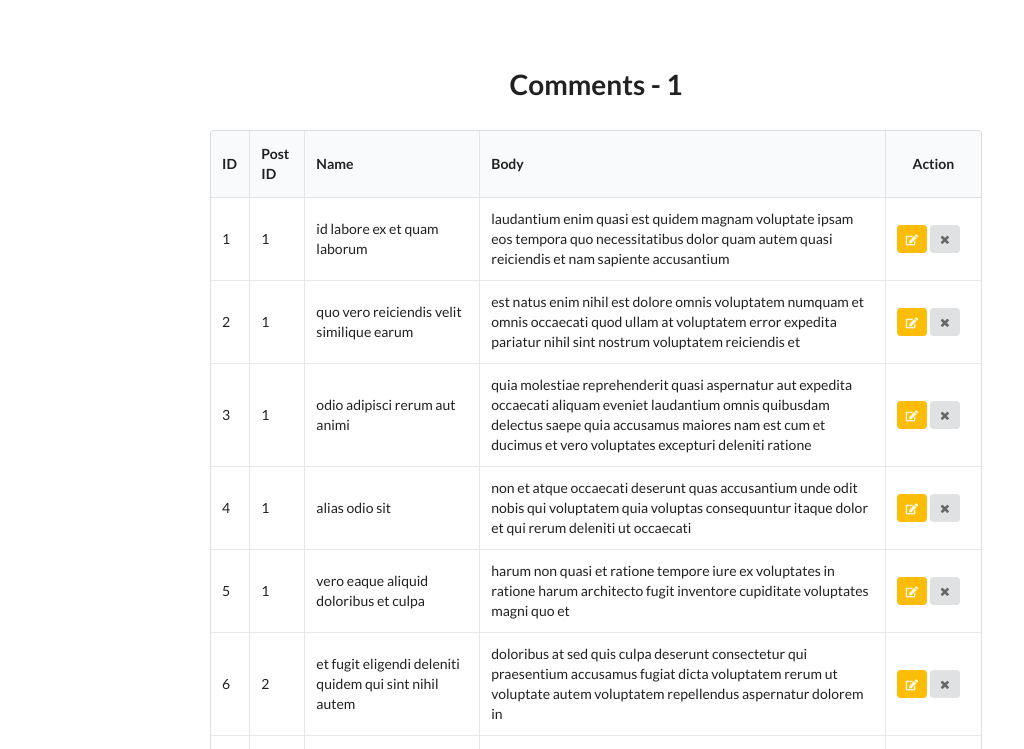
Comments Page Test › modal yes click test
Click the button with test id "delete-button-1": [945, 239] box [930, 225, 960, 253]
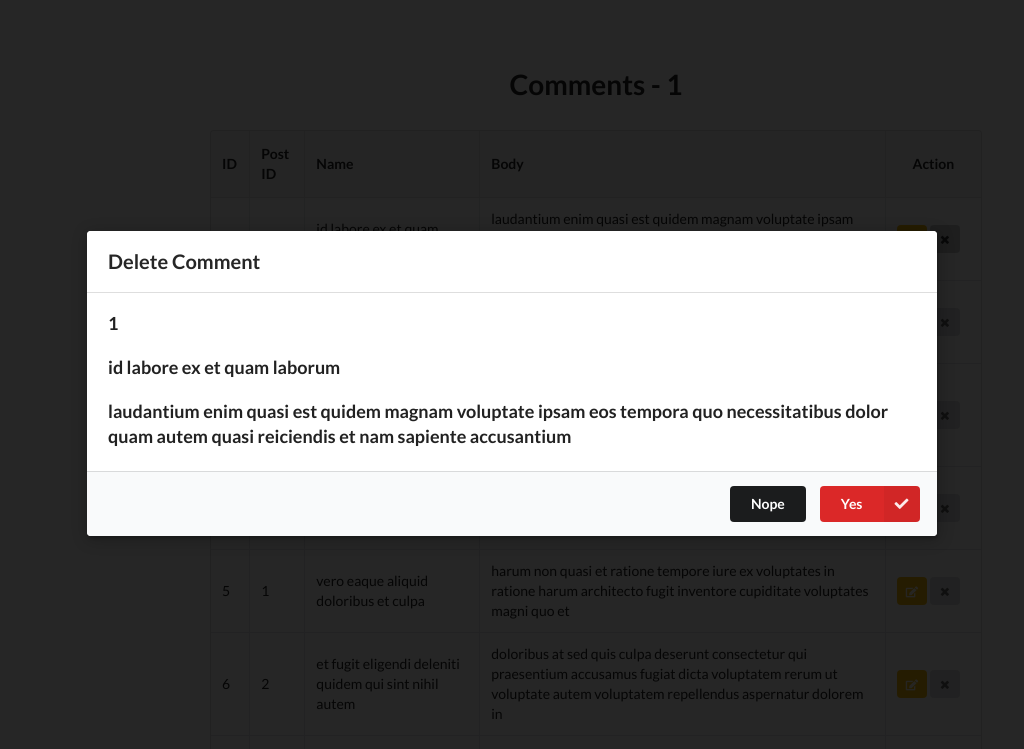
Click the button with test id "yes-button": [870, 504] box [820, 486, 920, 522]
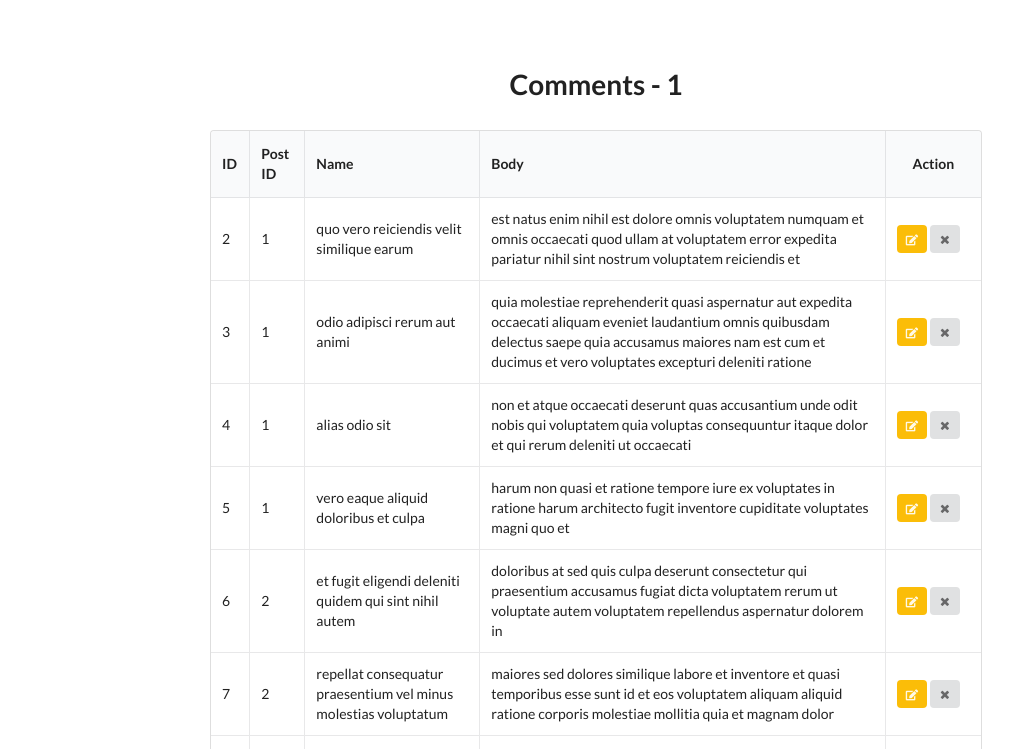
Check: the text "id labore ex et quam laborum" is gone
